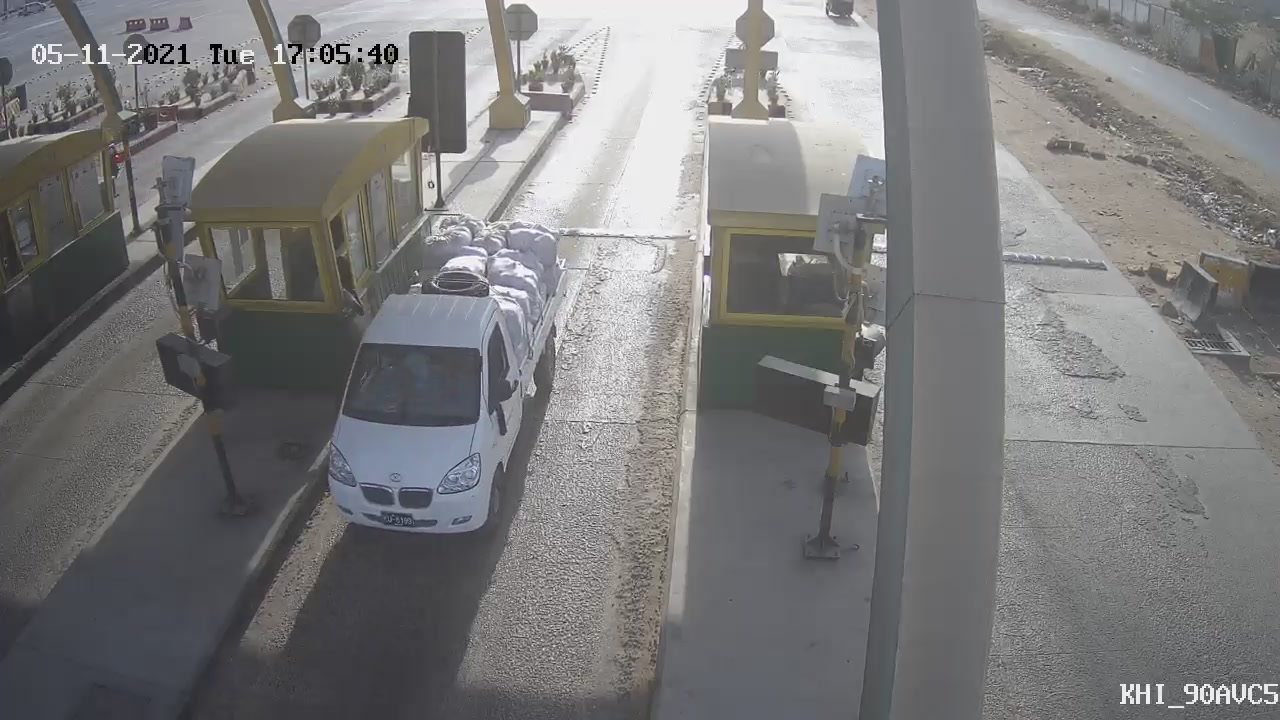F2: (304, 201, 590, 556)
